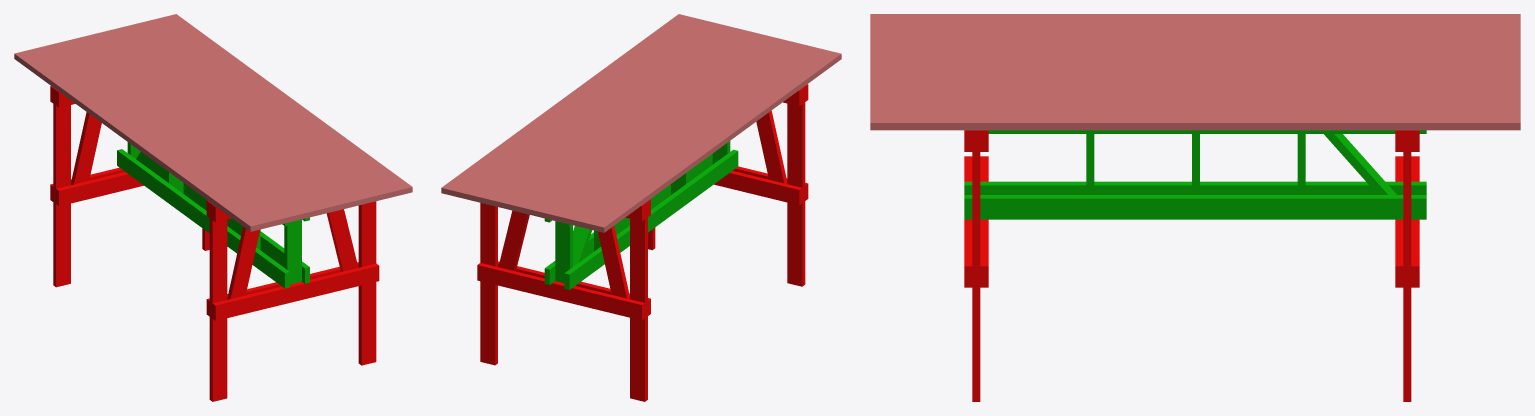
The model's file is result.glb.
3 renders of one model, left to right at view 1: azimuth 30°, elevation 25°; view 2: azimuth 150°, elevation 25°; view 3: azimuth 270°, elevation 25°, orthographic. The views are drawn at different scales.
Visible parts, largest first — view 1: 21607f51-ea81-46ad-a5fe-4192f10a330f__Box, 12b39279-5f3e-43fe-a40f-50653cc2c34b__undefined, 141c90c3-b6f4-4450-bf6a-1d3e7faa6c52__undefined, 78a792dd-bef6-4ec5-b329-e4ec08ba4d82__undefined, 785e9070-f58d-43f7-83f5-c7355a864838__undefined, 5264ec36-34e7-410a-8d53-54599afba4cd__undefined, e17ffb03-6451-4a07-9528-68e7b29389c4__undefined, 0c9c3172-97d0-413e-b353-fe727ed7fe64__undefined, 275e87e5-07ae-4aee-ab90-a5e0db007c15__undefined, ac27f91f-1d6e-4960-9a8d-f07595478e28__undefined, 39a2b220-a389-4249-acc2-631882c06057__undefined, a80aa11d-ce21-4bdc-ba25-236223197028__sideV (+11 smaller); view 2: 21607f51-ea81-46ad-a5fe-4192f10a330f__Box, ac27f91f-1d6e-4960-9a8d-f07595478e28__undefined, 0c9c3172-97d0-413e-b353-fe727ed7fe64__undefined, 785e9070-f58d-43f7-83f5-c7355a864838__undefined, 5264ec36-34e7-410a-8d53-54599afba4cd__undefined, 78a792dd-bef6-4ec5-b329-e4ec08ba4d82__undefined, e17ffb03-6451-4a07-9528-68e7b29389c4__undefined, 12b39279-5f3e-43fe-a40f-50653cc2c34b__undefined, 275e87e5-07ae-4aee-ab90-a5e0db007c15__undefined, 141c90c3-b6f4-4450-bf6a-1d3e7faa6c52__undefined, 39a2b220-a389-4249-acc2-631882c06057__undefined, a80aa11d-ce21-4bdc-ba25-236223197028__sideV (+12 smaller); view 3: 39a2b220-a389-4249-acc2-631882c06057__undefined, 9da4844c-f52e-46dc-a0d8-b24870bfe0ca__strutH, 0c9c3172-97d0-413e-b353-fe727ed7fe64__undefined, 12b39279-5f3e-43fe-a40f-50653cc2c34b__undefined, 78a792dd-bef6-4ec5-b329-e4ec08ba4d82__undefined, 275e87e5-07ae-4aee-ab90-a5e0db007c15__undefined, 785e9070-f58d-43f7-83f5-c7355a864838__undefined, 5264ec36-34e7-410a-8d53-54599afba4cd__undefined, 21607f51-ea81-46ad-a5fe-4192f10a330f__Box, ac27f91f-1d6e-4960-9a8d-f07595478e28__undefined, 141c90c3-b6f4-4450-bf6a-1d3e7faa6c52__undefined, e17ffb03-6451-4a07-9528-68e7b29389c4__undefined (+9 smaller).
Part boxes in pixels (x1,y1,x2,y2): 21607f51-ea81-46ad-a5fe-4192f10a330f__Box: (14,50,265,231); 12b39279-5f3e-43fe-a40f-50653cc2c34b__undefined: (59,39,309,220); 141c90c3-b6f4-4450-bf6a-1d3e7faa6c52__undefined: (132,21,383,202); 78a792dd-bef6-4ec5-b329-e4ec08ba4d82__undefined: (73,35,324,217); 785e9070-f58d-43f7-83f5-c7355a864838__undefined: (103,28,353,210); 5264ec36-34e7-410a-8d53-54599afba4cd__undefined: (118,25,368,206); e17ffb03-6451-4a07-9528-68e7b29389c4__undefined: (147,17,397,199); 0c9c3172-97d0-413e-b353-fe727ed7fe64__undefined: (44,43,294,224); 275e87e5-07ae-4aee-ab90-a5e0db007c15__undefined: (88,32,338,213); ac27f91f-1d6e-4960-9a8d-f07595478e28__undefined: (29,46,279,228); 39a2b220-a389-4249-acc2-631882c06057__undefined: (162,14,412,195); a80aa11d-ce21-4bdc-ba25-236223197028__sideV: (209,202,227,401); 21607f51-ea81-46ad-a5fe-4192f10a330f__Box: (589,50,841,232); ac27f91f-1d6e-4960-9a8d-f07595478e28__undefined: (574,46,826,228); 0c9c3172-97d0-413e-b353-fe727ed7fe64__undefined: (559,43,811,225); 785e9070-f58d-43f7-83f5-c7355a864838__undefined: (500,28,752,210); 5264ec36-34e7-410a-8d53-54599afba4cd__undefined: (485,25,737,207); 78a792dd-bef6-4ec5-b329-e4ec08ba4d82__undefined: (530,35,781,218); e17ffb03-6451-4a07-9528-68e7b29389c4__undefined: (456,17,707,200); 12b39279-5f3e-43fe-a40f-50653cc2c34b__undefined: (545,39,796,221); 275e87e5-07ae-4aee-ab90-a5e0db007c15__undefined: (515,32,766,214); 141c90c3-b6f4-4450-bf6a-1d3e7faa6c52__undefined: (471,21,722,203); 39a2b220-a389-4249-acc2-631882c06057__undefined: (441,14,692,196); a80aa11d-ce21-4bdc-ba25-236223197028__sideV: (787,86,805,286); 39a2b220-a389-4249-acc2-631882c06057__undefined: (870,113,1520,130); 9da4844c-f52e-46dc-a0d8-b24870bfe0ca__strutH: (964,195,1426,219); 0c9c3172-97d0-413e-b353-fe727ed7fe64__undefined: (870,33,1520,43); 12b39279-5f3e-43fe-a40f-50653cc2c34b__undefined: (870,43,1520,53); 78a792dd-bef6-4ec5-b329-e4ec08ba4d82__undefined: (870,53,1520,63); 275e87e5-07ae-4aee-ab90-a5e0db007c15__undefined: (870,63,1520,73); 785e9070-f58d-43f7-83f5-c7355a864838__undefined: (870,73,1520,83); 5264ec36-34e7-410a-8d53-54599afba4cd__undefined: (870,83,1520,93); 21607f51-ea81-46ad-a5fe-4192f10a330f__Box: (870,14,1520,23); ac27f91f-1d6e-4960-9a8d-f07595478e28__undefined: (870,24,1520,33); 141c90c3-b6f4-4450-bf6a-1d3e7faa6c52__undefined: (870,93,1520,102); e17ffb03-6451-4a07-9528-68e7b29389c4__undefined: (870,103,1520,112).
Size of the model in its own units: 800 by 945 by 2000.
